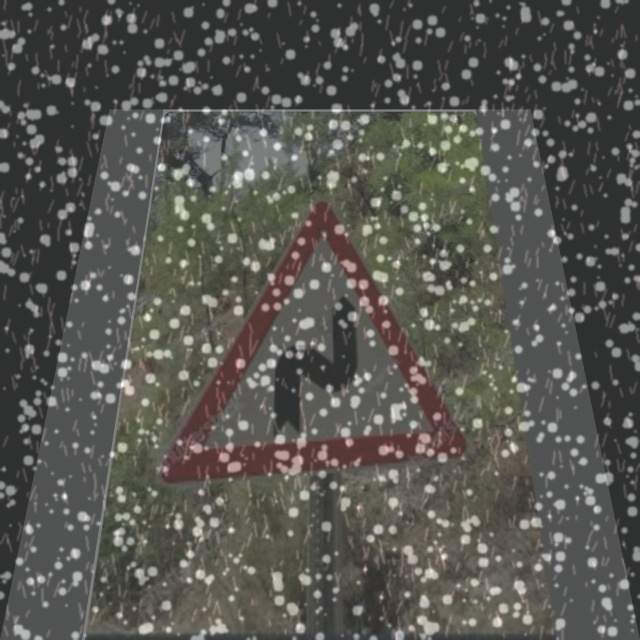Right_Reverse_Bend: (159, 199, 468, 463)
